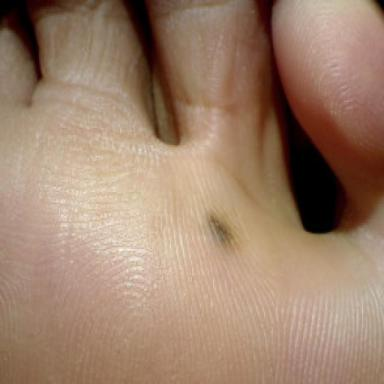Melanoma: (207, 213, 237, 247)
